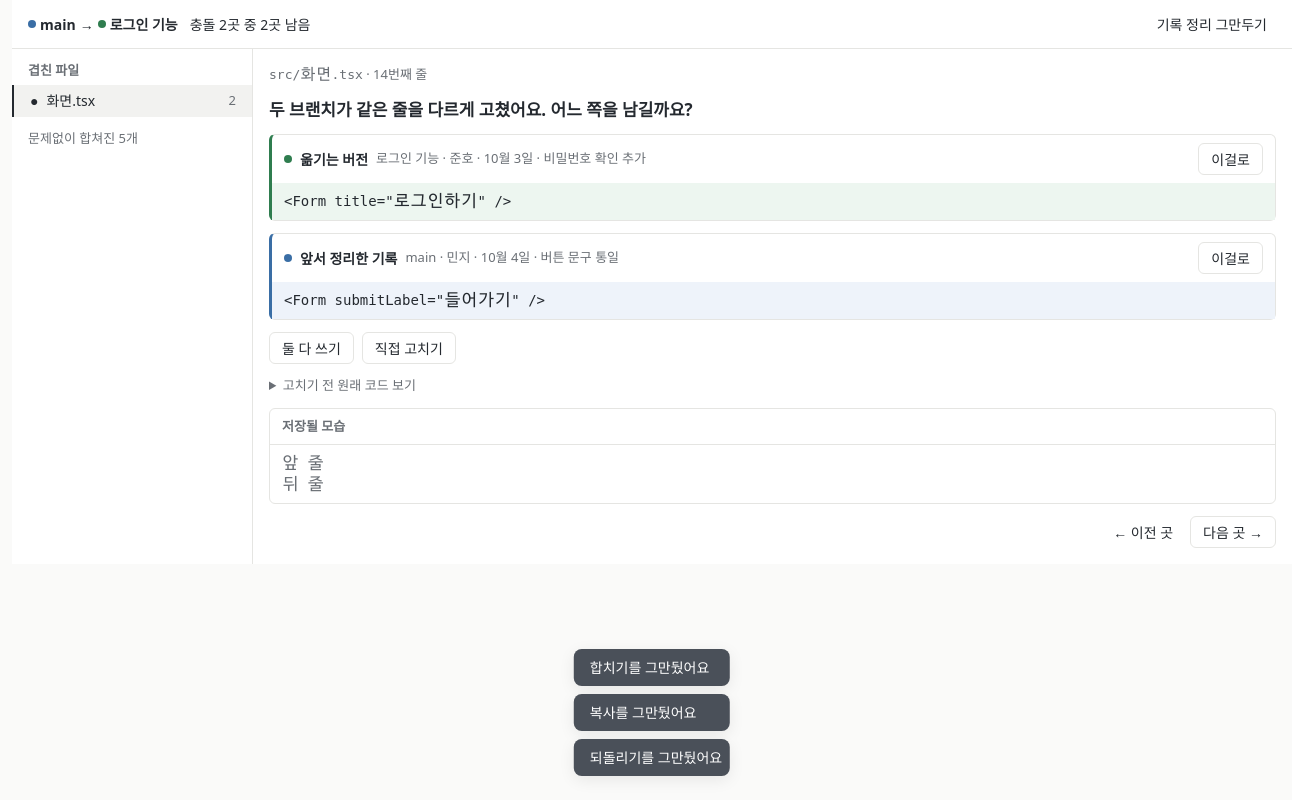
Test: 충돌 해결 화면 › rebase 맥락의 쪽 이름과 단추
The width and height of the screenshot is (1292, 800).
Expected: the text "<Form title=\"로그인하기\" />" is shown, [272,183,1275,220]
Expected: the text "옮기는 버전" is shown, [300,150,368,168]
Click the button "기록 정리 그만두기": (1212, 24) [1148,8,1276,40]
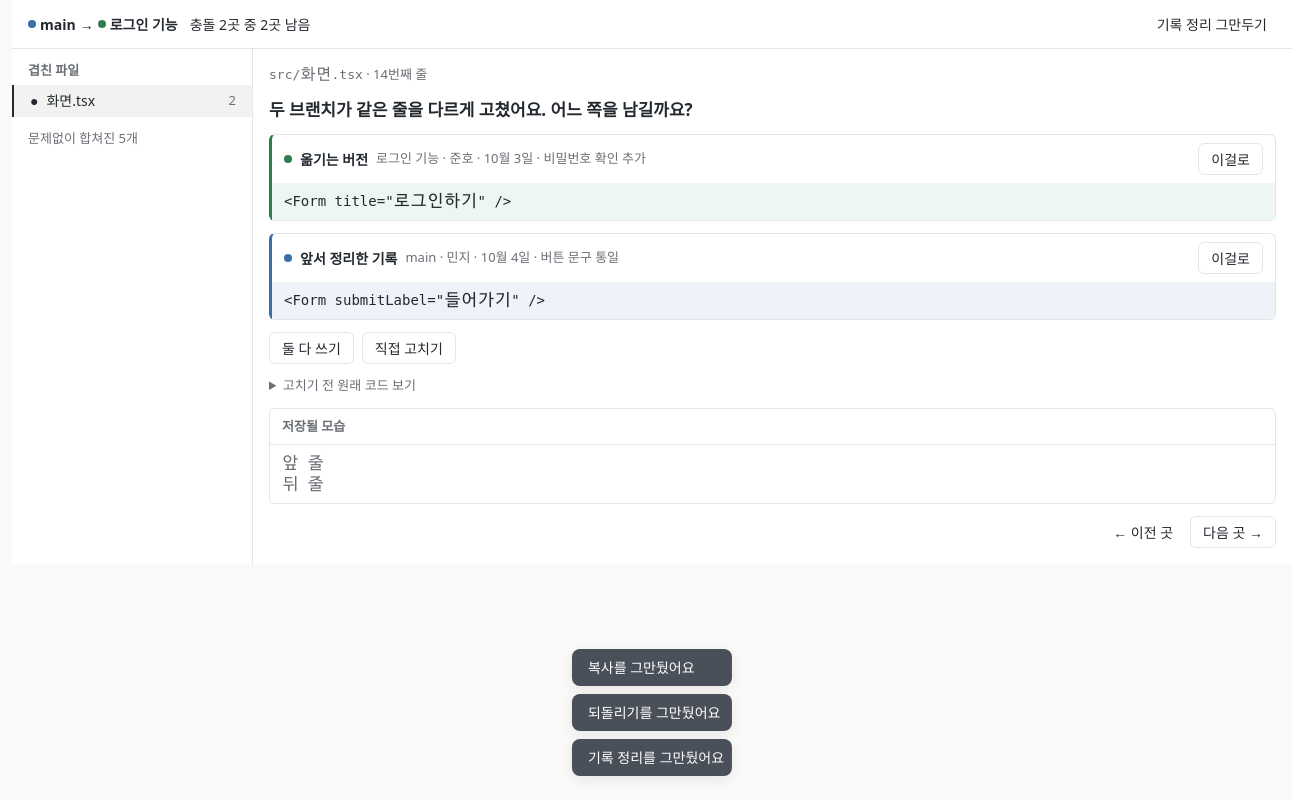
Expected: the text "기록 정리를 그만뒀어요" is shown, [588,747,724,768]
